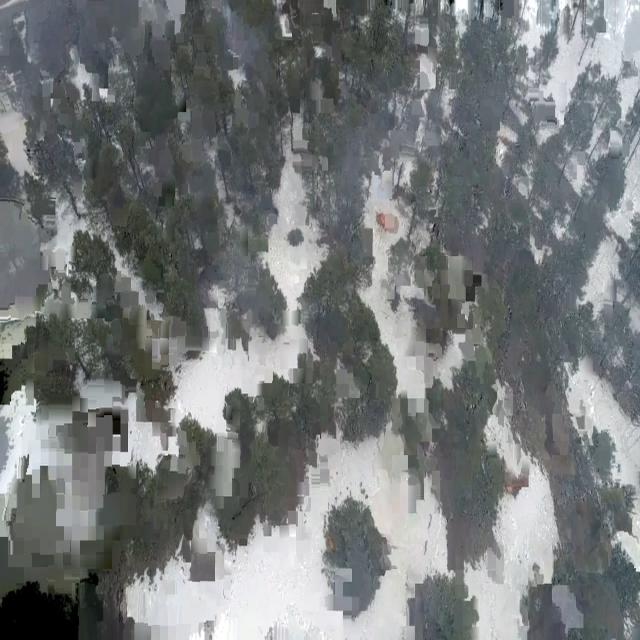Fire: (374, 206, 404, 240)
